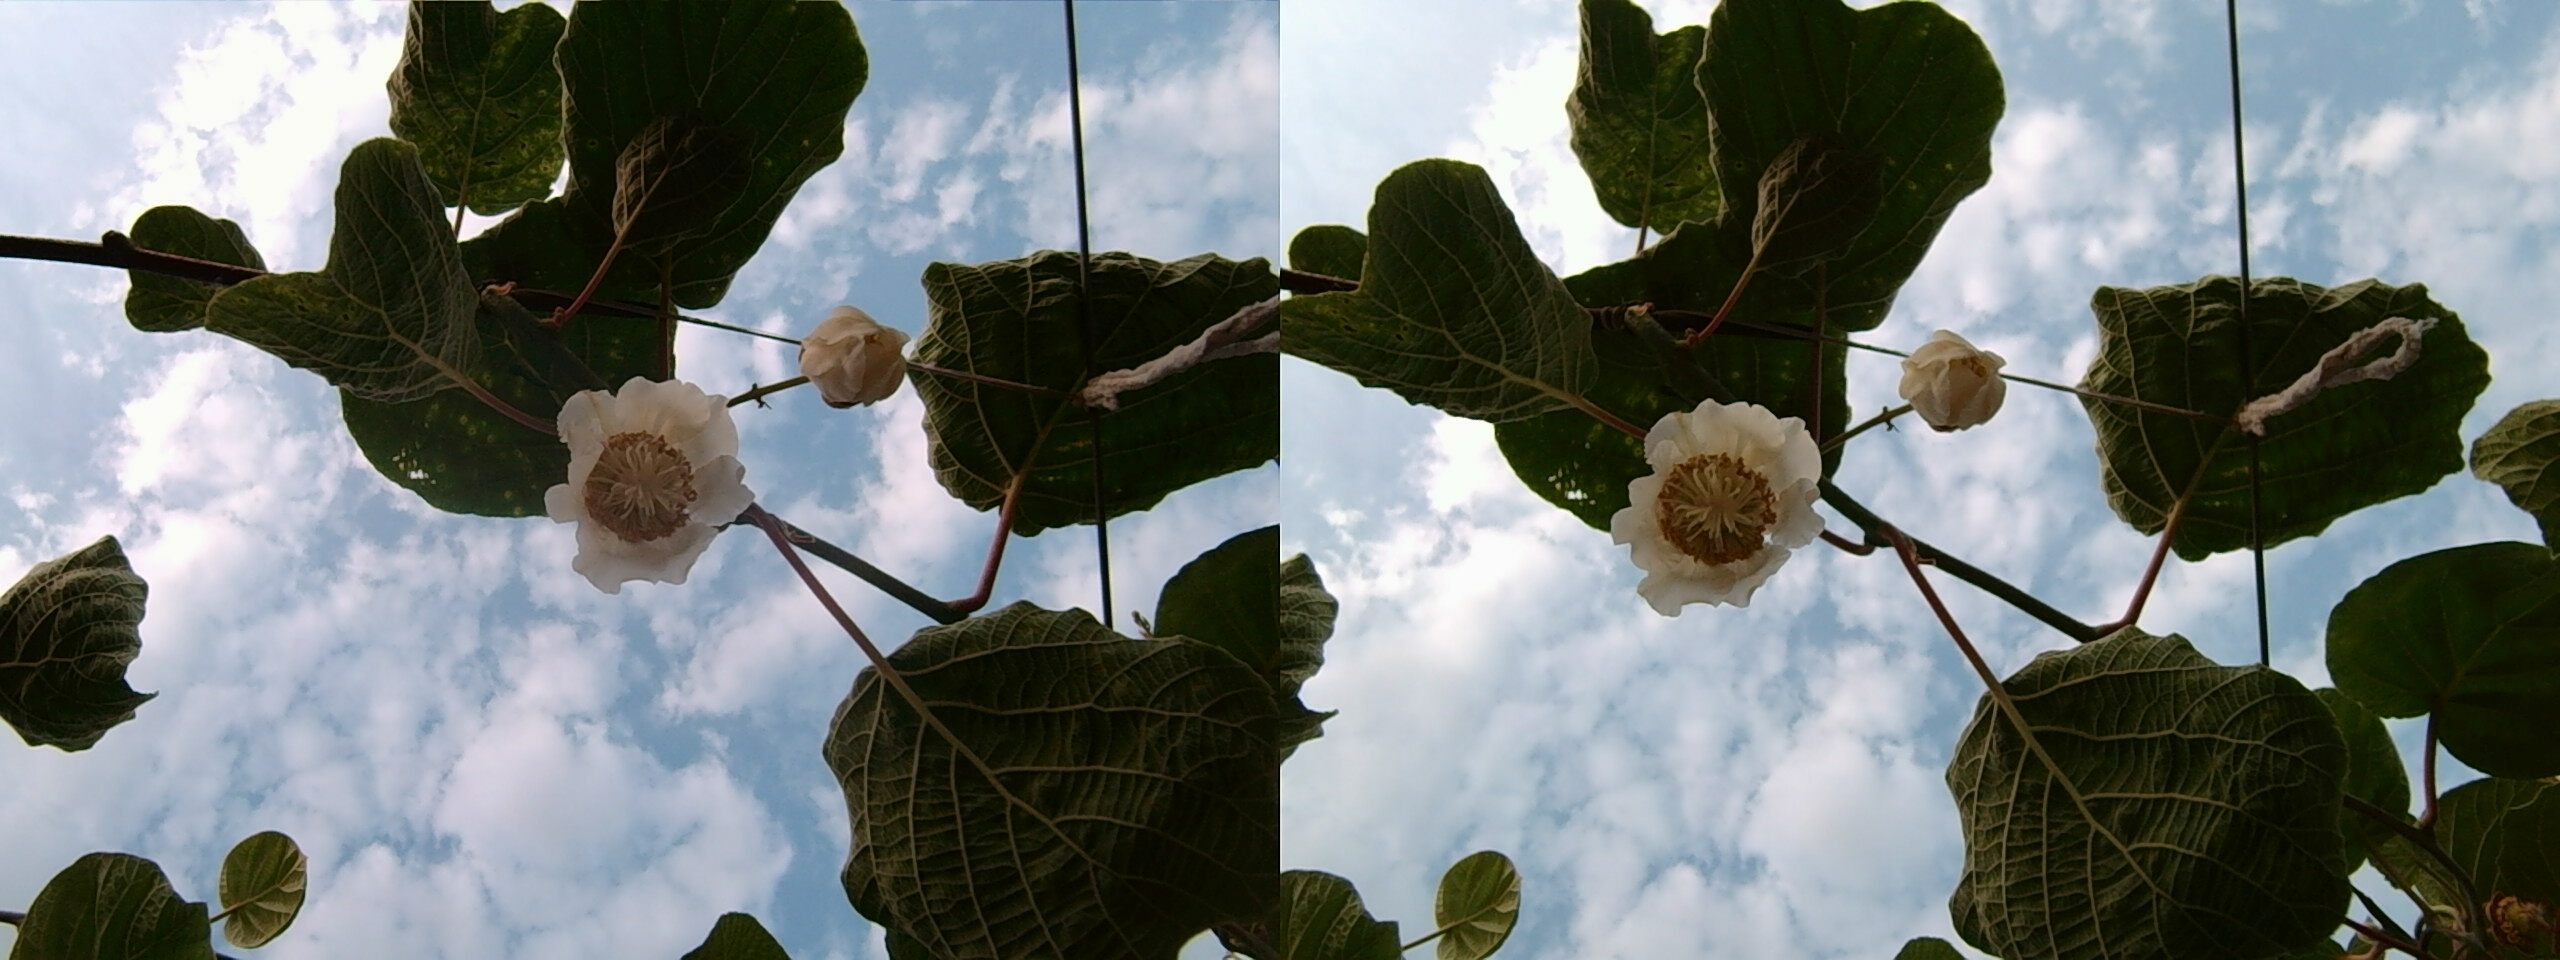flower: (1605, 384, 1827, 611), (539, 364, 748, 593)
